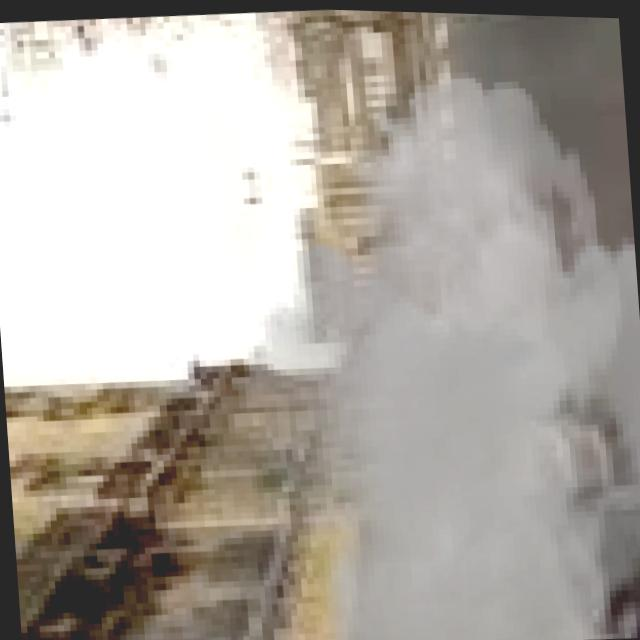smoke: (38, 47, 640, 640)
